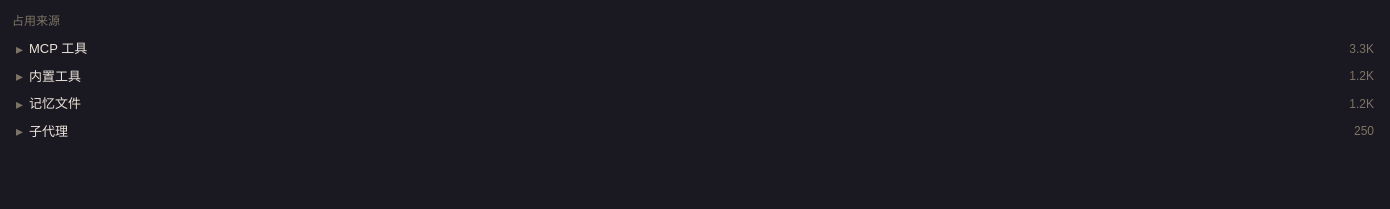
it: ContextUsageBreakdown — 两级展开 › 点 section 头展开：MCP 先出 server 汇总行（不直接铺工具）
The width and height of the screenshot is (1390, 209).
Click the button with class "usage-breakdown__row--head" showing "▸ MCP 工具 3.3K" at (58, 48), box [12,36,1378,62]
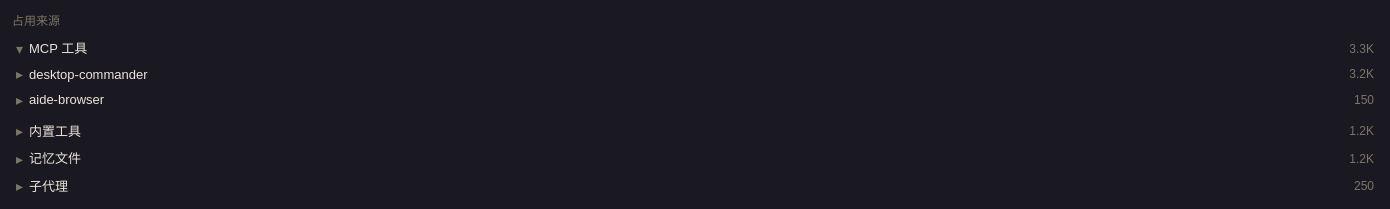
Now the text with class "usage-breakdown__value" reads "3.2K", box [1349,67,1374,81]
